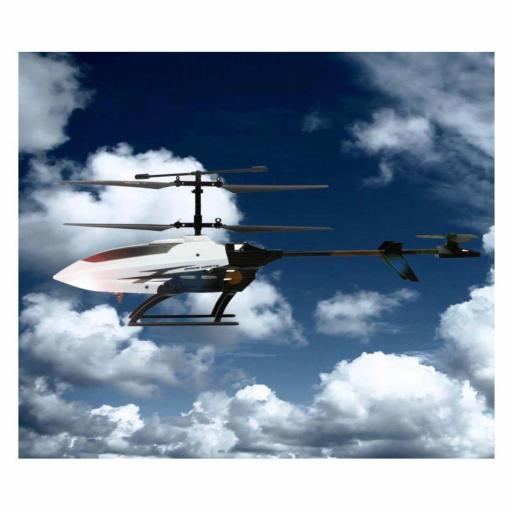helicopter: (58, 163, 485, 334)
